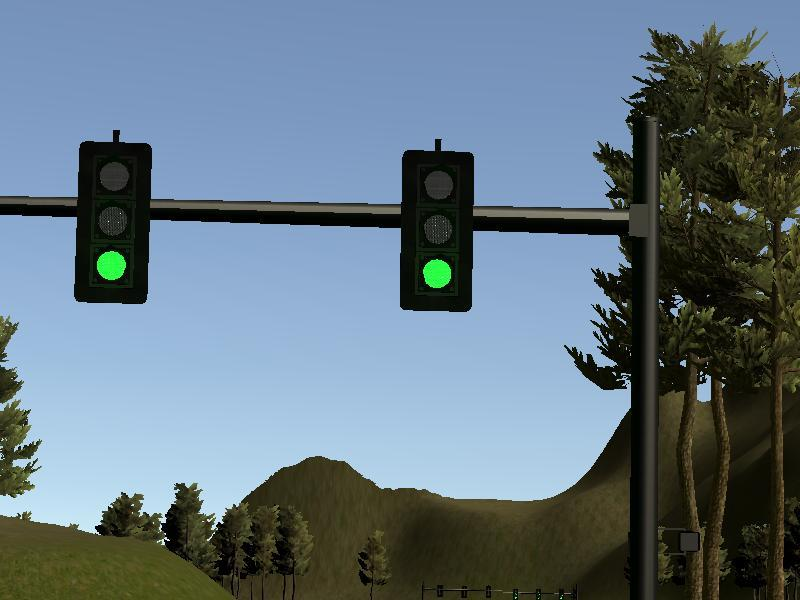Green: (80, 143, 145, 302), (404, 154, 469, 309)
